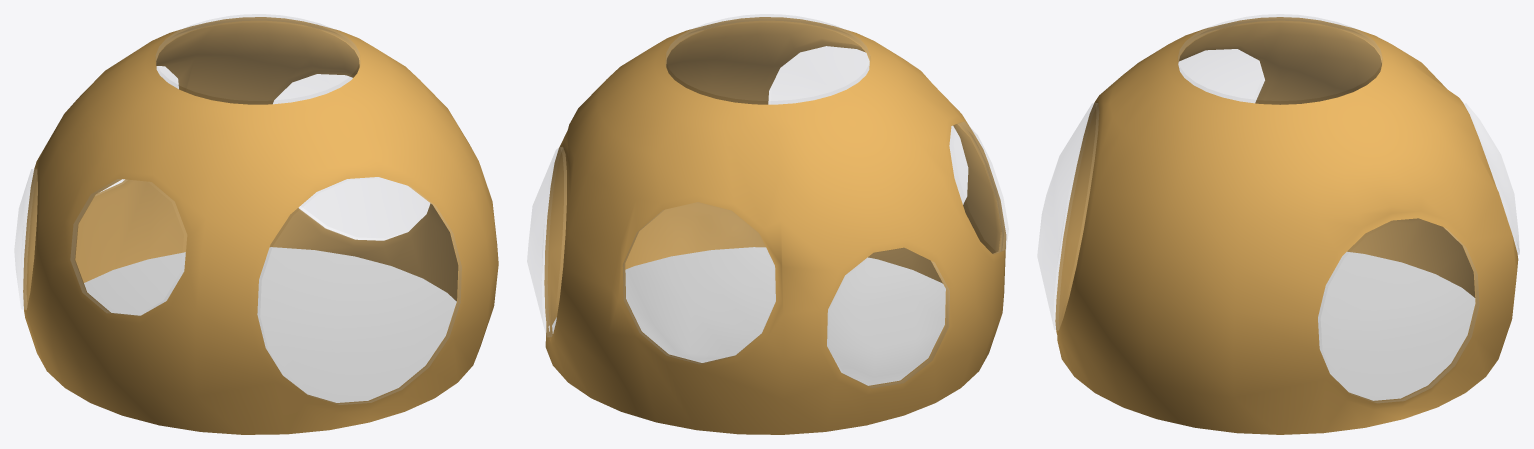
Rendered from prodconfig3.fbx.
The picture shows the model from 3 angles, left to right: view 1: azimuth 30°, elevation 25°; view 2: azimuth 150°, elevation 25°; view 3: azimuth 270°, elevation 25°; orthographic projection.
Visible parts, largest first — view 1: Sphere.009, Sphere.008, Sphere.001, Sphere.006, Sphere.004, Sphere.002, Sphere.005; view 2: Sphere.009, Sphere.001, Sphere.008, Sphere.003, Sphere.004, Sphere.005, Sphere.006; view 3: Sphere.009, Sphere.008, Sphere.001, Sphere.002, Sphere.007, Sphere.004, Sphere.003.
Part boxes in pixels (x1,y1,x2,y2): Sphere.009: [23, 17, 498, 434]; Sphere.008: [26, 20, 461, 405]; Sphere.001: [84, 247, 456, 402]; Sphere.006: [14, 169, 36, 309]; Sphere.004: [156, 14, 359, 61]; Sphere.002: [322, 187, 461, 404]; Sphere.005: [70, 179, 134, 315]; Sphere.009: [544, 17, 1006, 434]; Sphere.001: [552, 247, 945, 385]; Sphere.008: [547, 20, 1002, 387]; Sphere.003: [527, 147, 563, 336]; Sphere.004: [666, 14, 869, 61]; Sphere.005: [958, 122, 1008, 253]; Sphere.006: [869, 262, 949, 387]; Sphere.009: [1055, 17, 1518, 434]; Sphere.008: [1058, 20, 1478, 402]; Sphere.001: [1318, 251, 1475, 400]; Sphere.002: [1037, 103, 1097, 329]; Sphere.007: [1464, 103, 1519, 254]; Sphere.004: [1178, 14, 1382, 61]; Sphere.003: [1352, 228, 1479, 402].
Size of the model in its own units: 201 by 142 by 203.
